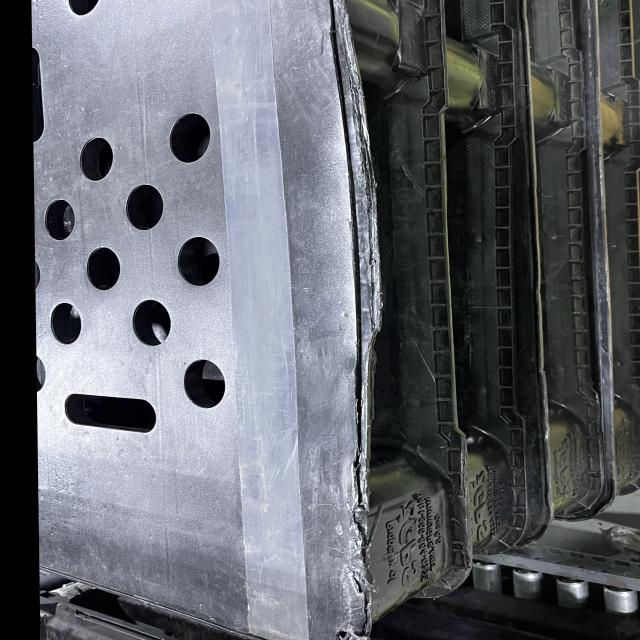igps: (17, 1, 447, 638), (438, 0, 554, 585), (514, 0, 624, 528), (589, 0, 640, 505)
